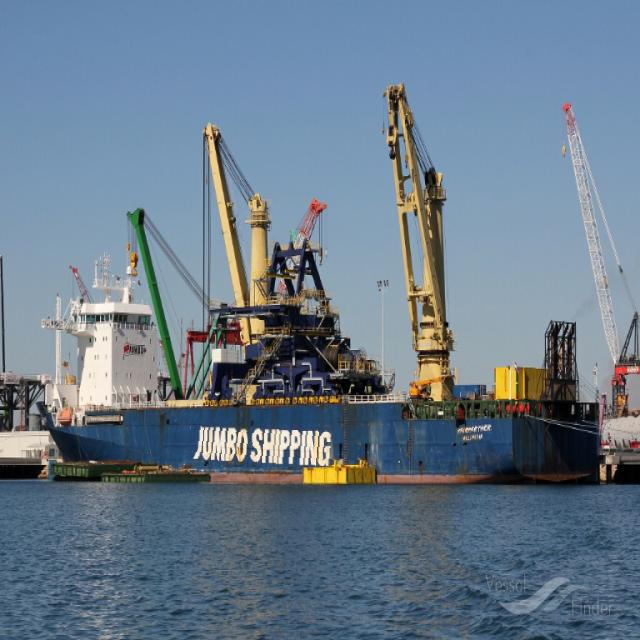OCR: (193, 412, 336, 467), (456, 422, 492, 454)
